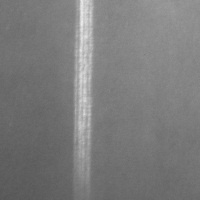scratches: (71, 0, 96, 190)
